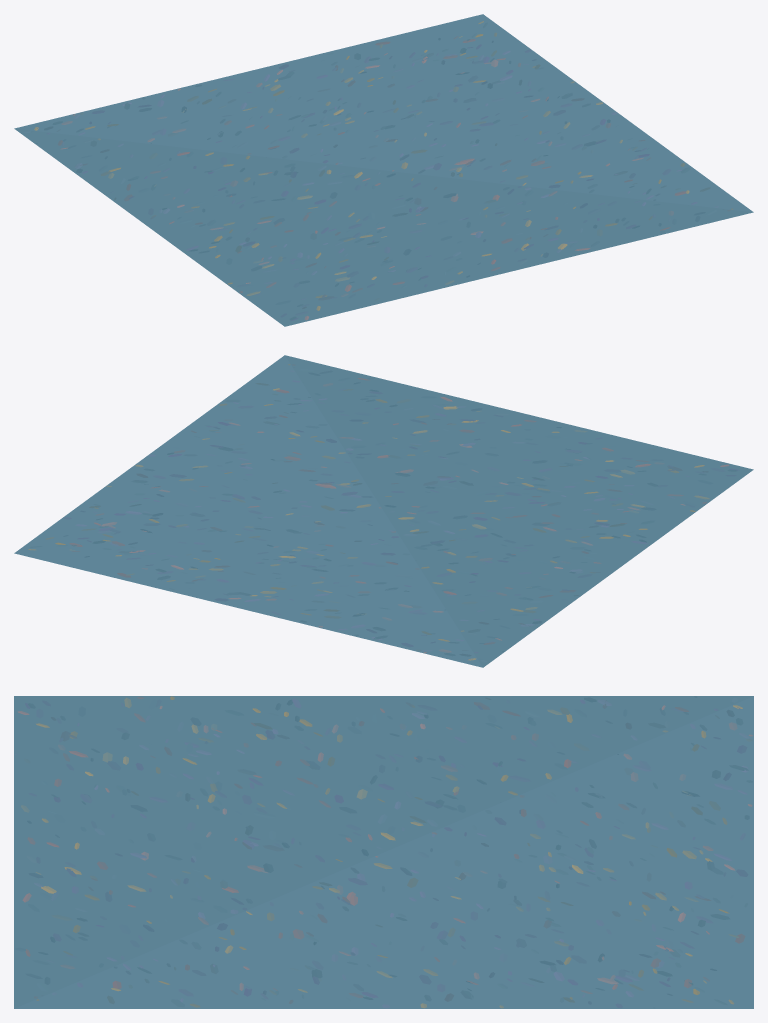
File: HK_Water.glb
The picture shows the model from 3 angles, top to bottom: view 1: azimuth 30°, elevation 25°; view 2: azimuth 150°, elevation 25°; view 3: azimuth 270°, elevation 25°; orthographic projection. The views are drawn at different scales.
Visible parts, largest first — view 1: HK_Water; view 2: HK_Water; view 3: HK_Water.
Part boxes in pixels (left/top/right/bottom): HK_Water: left=14, top=14, right=753, bottom=326; HK_Water: left=14, top=355, right=753, bottom=667; HK_Water: left=14, top=696, right=753, bottom=1008.
Bounding box in the file's own units: 40 × 0.00649 × 40.
